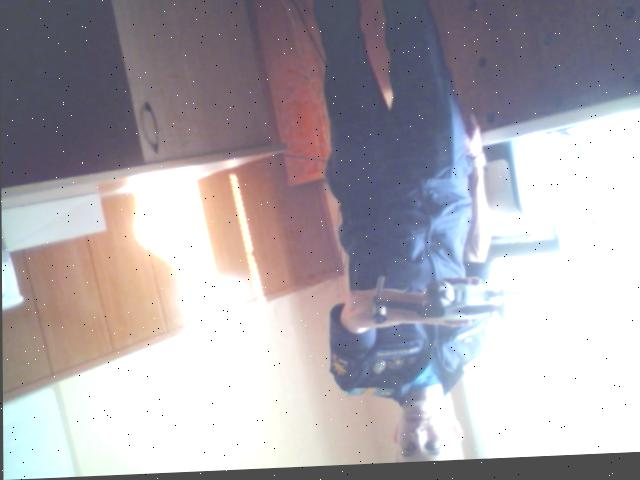drone: (356, 255, 566, 343)
